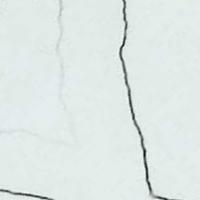crack: (82, 0, 199, 199)
